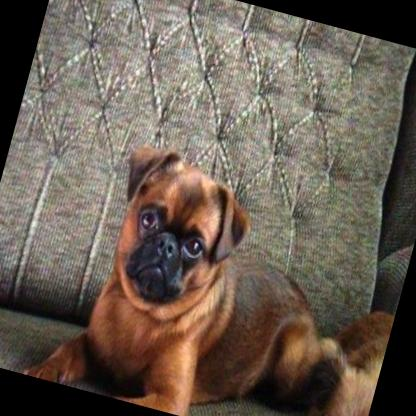Brabancon_griffon: (21, 125, 361, 416)
